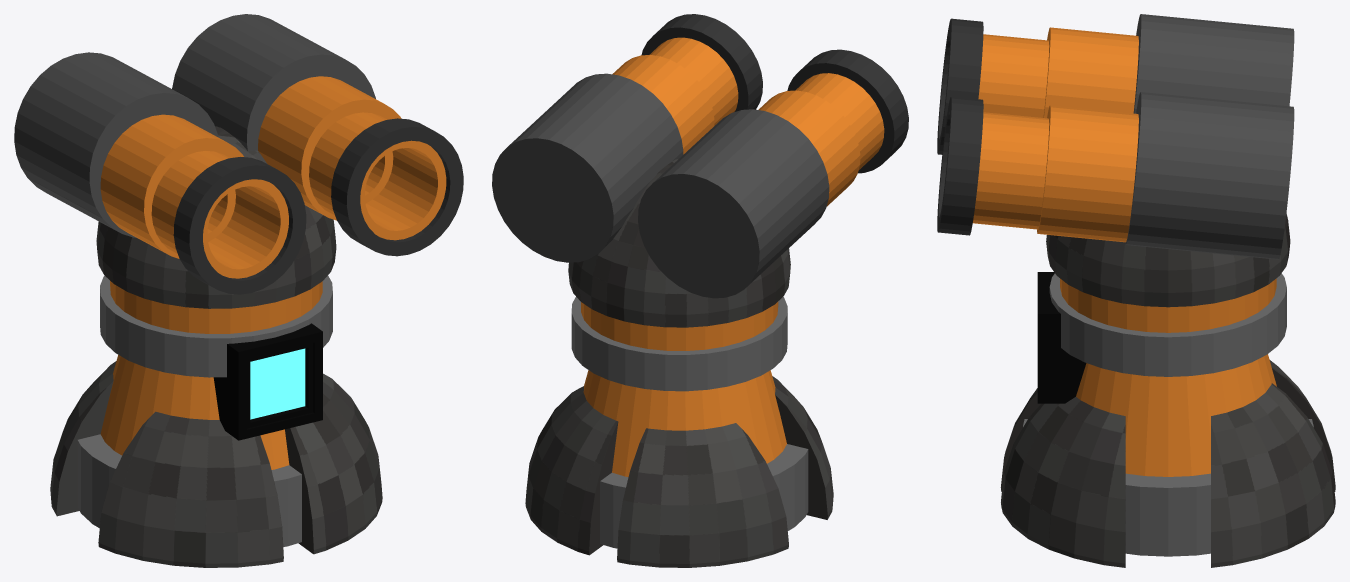
The model's file is Tower5.fbx.
3 views of the same model, side by side, from view 1: azimuth 30°, elevation 25°; view 2: azimuth 150°, elevation 25°; view 3: azimuth 270°, elevation 25° (orthographic). The views are drawn at different scales.
Parts seen in each view (by area): view 1: Base, CanonRight, CanonLeft, Cube, BodyRing, BodyMid, BodyTop, BodyBase; view 2: Base, CanonRight, CanonLeft, BodyMid, BodyRing, BodyTop, BodyBase; view 3: CanonLeft, Base, CanonRight, BodyMid, BodyRing, BodyBase, BodyTop, Cube.
Part boxes in pixels (x1=…): Base: x1=50, y1=126, x2=382, y2=567; CanonRight: x1=14, y1=52, x2=306, y2=294; CanonLeft: x1=172, y1=14, x2=463, y2=256; Cube: x1=213, y1=323, x2=322, y2=440; BodyRing: x1=100, y1=275, x2=332, y2=377; BodyMid: x1=100, y1=355, x2=289, y2=469; BodyTop: x1=110, y1=281, x2=322, y2=333; BodyBase: x1=77, y1=434, x2=301, y2=546; Base: x1=525, y1=158, x2=833, y2=567; CanonRight: x1=638, y1=49, x2=908, y2=298; CanonLeft: x1=492, y1=14, x2=762, y2=262; BodyMid: x1=583, y1=370, x2=786, y2=477; BodyRing: x1=571, y1=296, x2=787, y2=391; BodyTop: x1=581, y1=301, x2=778, y2=350; BodyBase: x1=600, y1=444, x2=808, y2=548; CanonLeft: x1=937, y1=92, x2=1294, y2=259; Base: x1=1000, y1=213, x2=1335, y2=567; CanonRight: x1=937, y1=14, x2=1294, y2=154; BodyMid: x1=1076, y1=354, x2=1276, y2=476; BodyRing: x1=1049, y1=273, x2=1286, y2=376; BodyBase: x1=1023, y1=419, x2=1313, y2=556; BodyTop: x1=1060, y1=278, x2=1276, y2=332; Cube: x1=1037, y1=272, x2=1086, y2=403.
Size of the model in its own units: 440 by 630 by 518.
8 materials, 2 textured.
